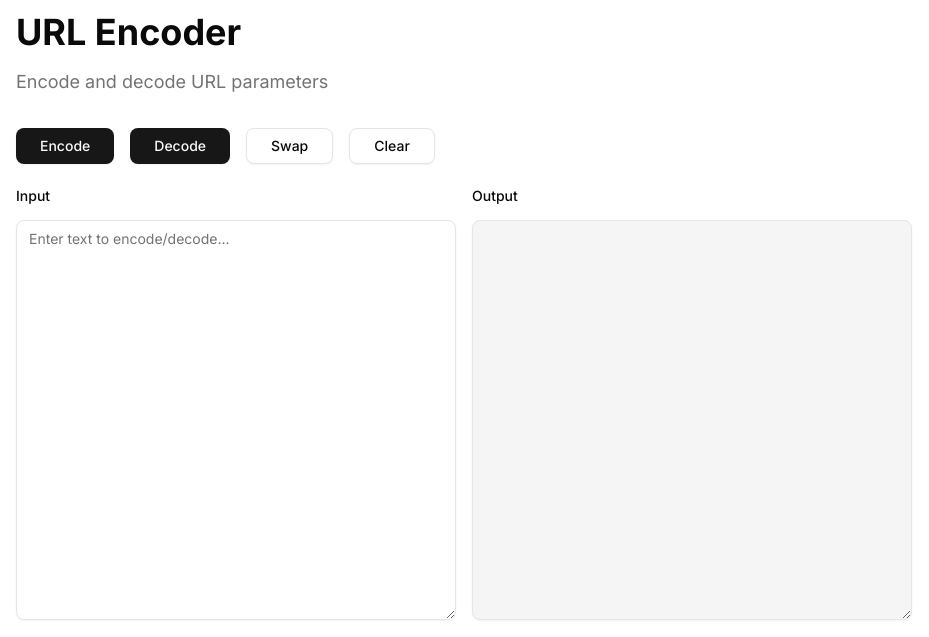
Test: UrlEncoder › decodes URL encoded text correctly
Type "Hello%2C%20world!%20Special%20chars%3A%20%26%5E%25%24%23%40" into the text box with placeholder "Enter text to encode/decode..." at (236, 420), box top-left (16, 220), bottom-right (456, 620)
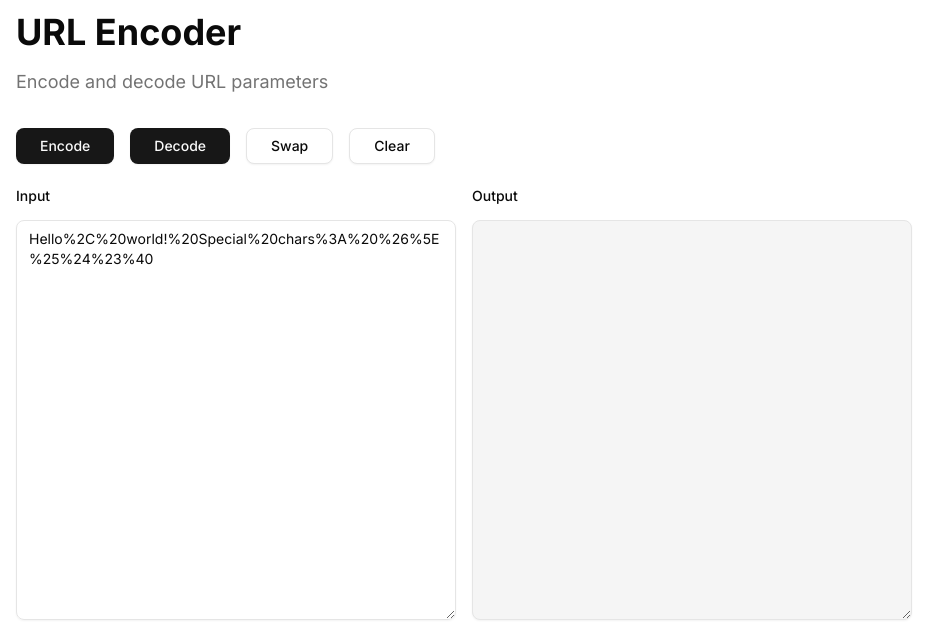
Click the button "Decode" at (180, 146), box top-left (130, 128), bottom-right (230, 164)
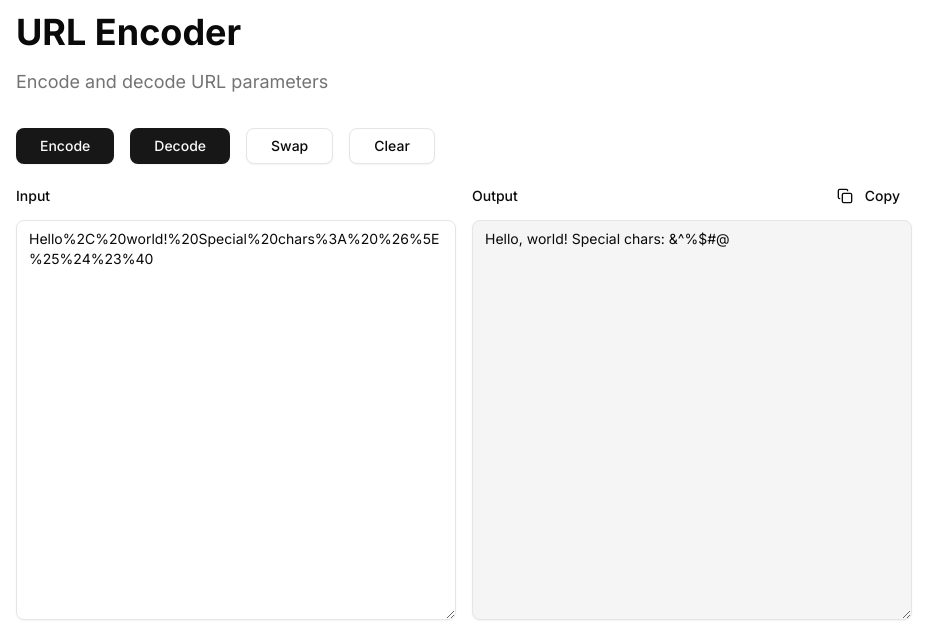
Expected: the text box named "output" holds "Hello, world! Special chars: &^%$#@", top-left (472, 220), bottom-right (912, 620)
